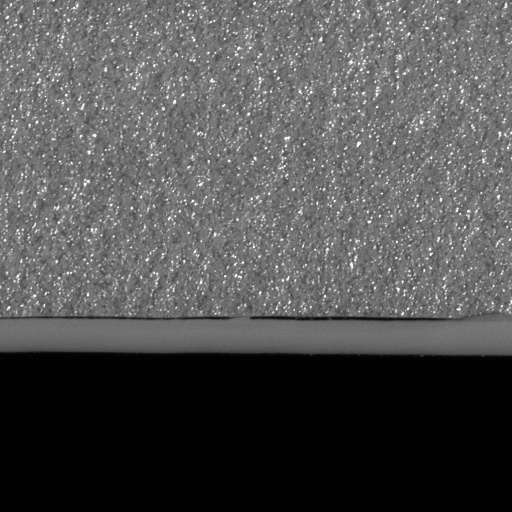jiaofeng: (5, 313, 243, 335), (246, 313, 468, 336)
